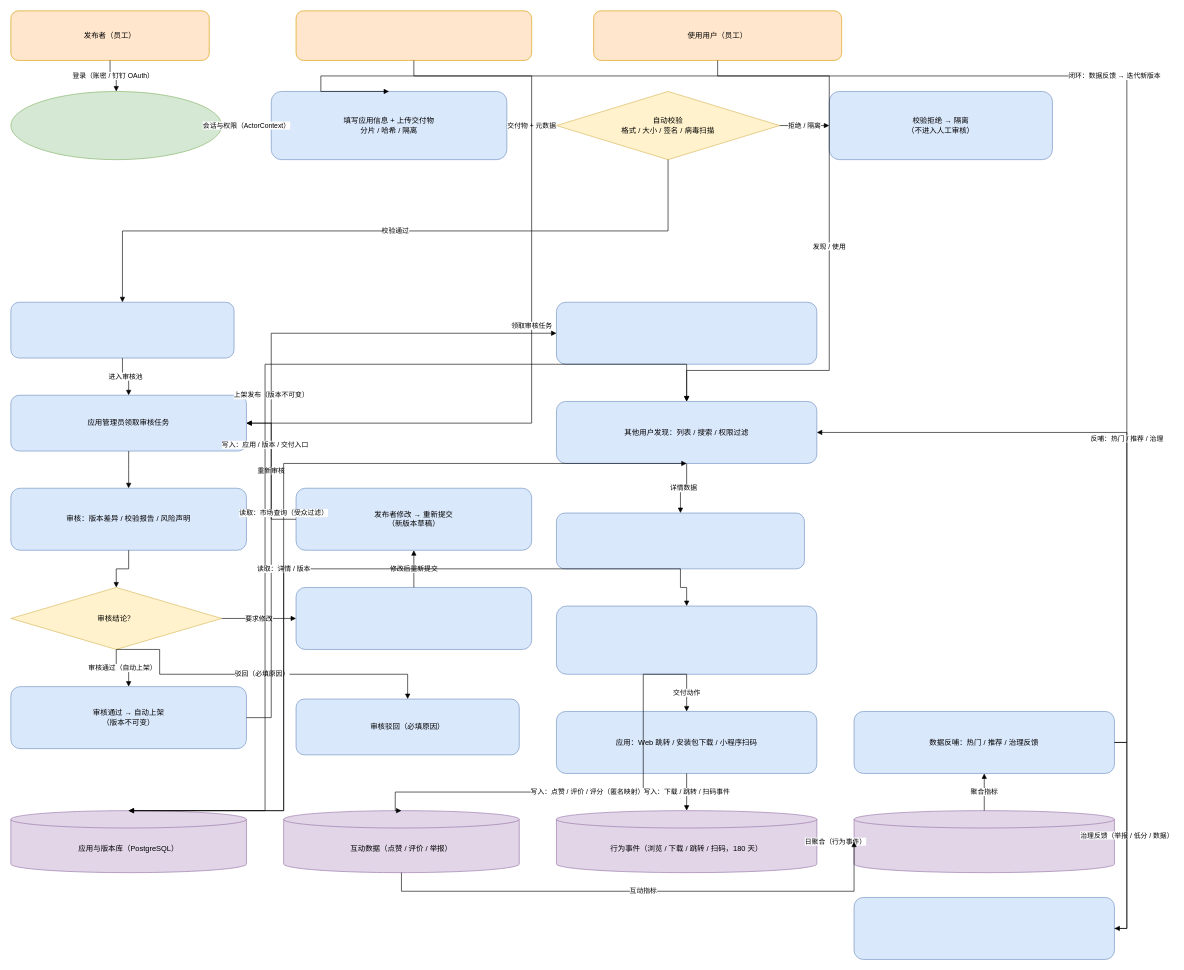
This 1184x970 diagram has some shape labels left out. The shapes that lost their labels are listed below. From the top down, each one's centre as x and y in pixels, then its label:
point 413,35: 应用管理员（审核角色）
point 116,125: 登录：账密 / 钉钉 OAuth → 建立会话
point 122,330: 提交进入人工审核池
point 686,333: 上架发布到市场 版本 / 风险声明 / 交付入口
point 680,540: 查看详情（版本 / 交付入口）
point 413,618: 审核修改（填写修改要求） → 返回发布者
point 686,639: 点赞 / 评论 / 评分（1–5 星，可匿名）
point 983,841: 日聚合与看板指标
point 983,928: 反馈发布者：应用数据 / 评价处理 / 迭代建议
